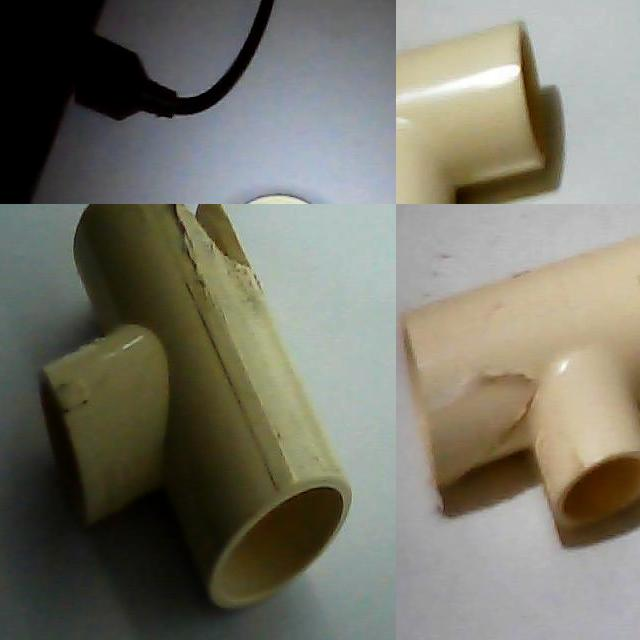Defective: (426, 360, 542, 453), (148, 204, 256, 270)
T Joint: (39, 204, 354, 613), (401, 235, 640, 522), (396, 22, 548, 204)
